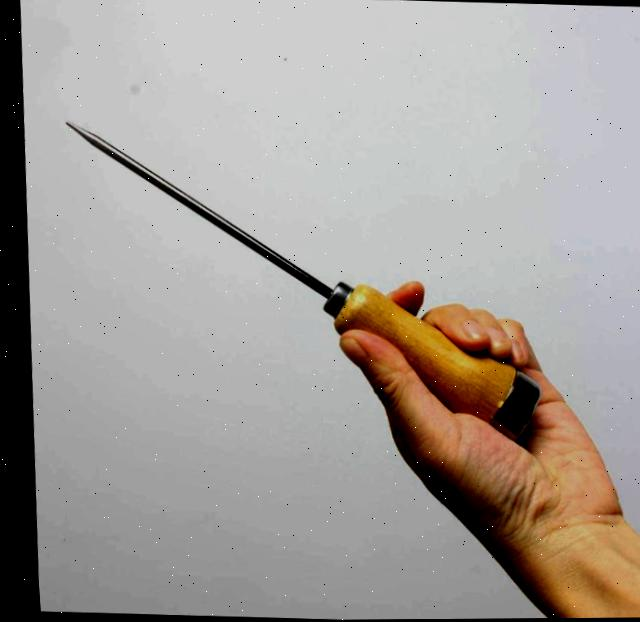ice pick: (53, 117, 547, 446)
